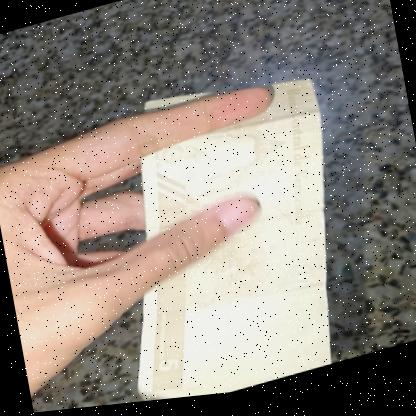five-back-vef: (87, 57, 363, 409)
